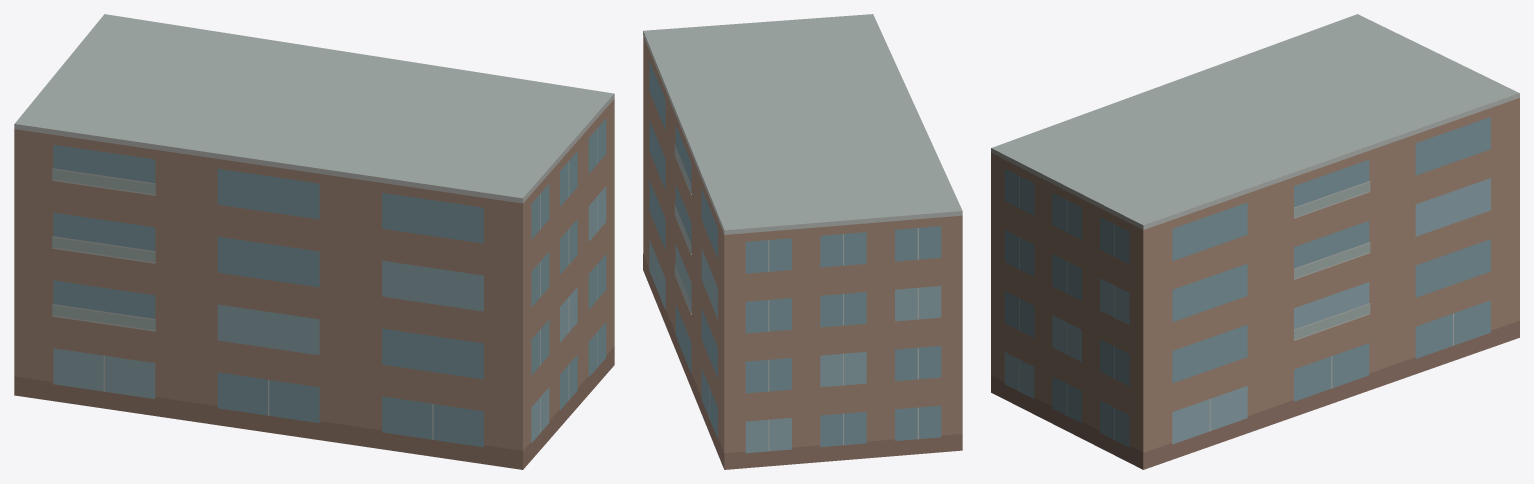
File: survey-upis-32724227.glb
3 views of the same model, side by side, from view 1: azimuth 30°, elevation 25°; view 2: azimuth 150°, elevation 25°; view 3: azimuth 270°, elevation 25° (orthographic). The views are drawn at different scales.
Visible parts, largest first — view 1: survey-upis-32724227.tmp; view 2: survey-upis-32724227.tmp; view 3: survey-upis-32724227.tmp.
Boxes of the visible parts, <box> form: survey-upis-32724227.tmp: <box>14,14,614,469</box>; survey-upis-32724227.tmp: <box>643,14,962,469</box>; survey-upis-32724227.tmp: <box>991,14,1519,469</box>.
Bounding box in the file's own units: 23.75 × 12.8 × 25.09.
